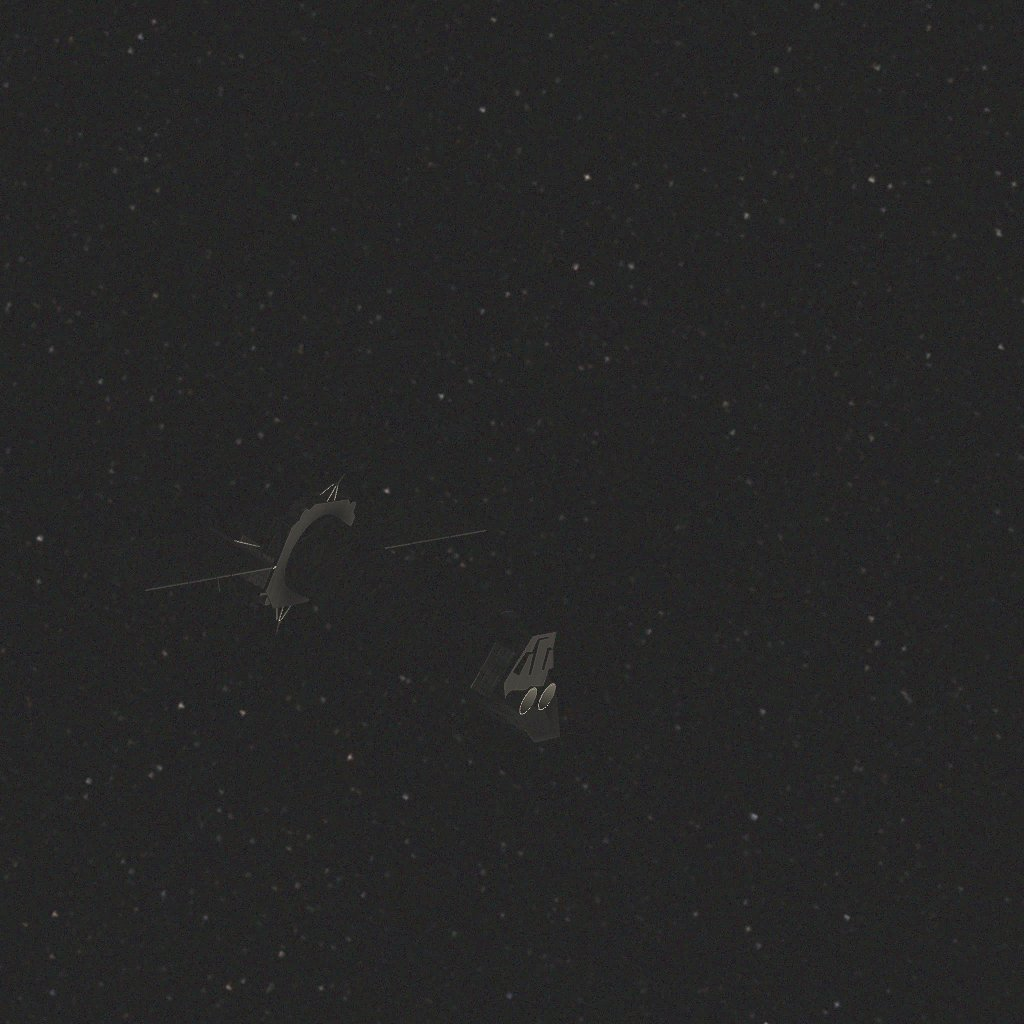xmm_newton: (78, 473, 560, 742)
